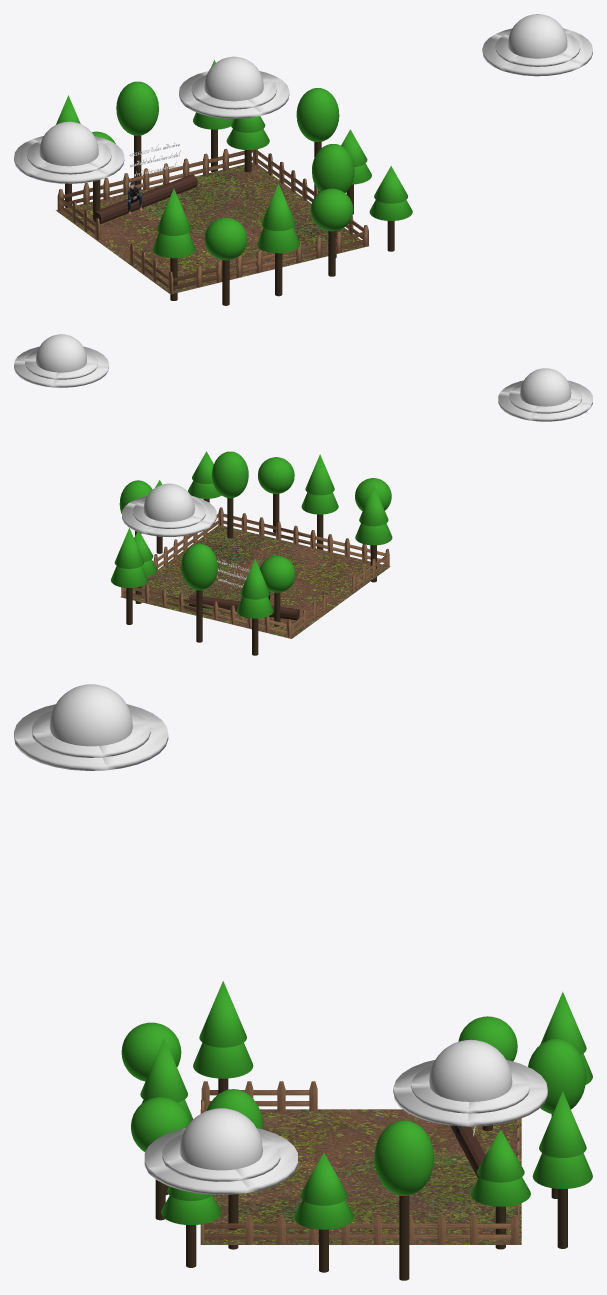
File: SceneFinal.glb
3 views of the same model, one above another, from view 1: azimuth 30°, elevation 25°; view 2: azimuth 150°, elevation 25°; view 3: azimuth 270°, elevation 25° (orthographic). The views are drawn at different scales.
Visible parts, largest first — view 1: Plane, Cube.040, Sphere.001, Sphere.002, Sphere.003, Tree2, Tree1.005, Tree1.006, Tree2.002, Tree2.001, Tree2.004, Tree2.005 (+7 smaller); view 2: Plane, Cube.040, Sphere.001, Sphere.003, Sphere.002, Tree2, Tree2.005, Tree1.001, Tree1.003, Tree1.005, Tree1.006, Tree2.004 (+6 smaller); view 3: Plane, Sphere.002, Sphere.003, Sphere.001, Cube.040, Tree2.002, Tree1.003, Tree1.006, Tree1, Tree1.004, Tree2, Tree2.004 (+7 smaller).
Part boxes in pixels (box(x1,y1,x2,y2)): Plane: box(56, 162, 368, 294); Cube.040: box(57, 148, 368, 293); Sphere.001: box(482, 14, 592, 76); Sphere.002: box(179, 56, 289, 118); Sphere.003: box(14, 121, 124, 183); Tree2: box(116, 81, 158, 189); Tree1.005: box(257, 183, 299, 296); Tree1.006: box(152, 188, 195, 300); Tree2.002: box(296, 88, 339, 192); Tree2.001: box(204, 217, 247, 305); Tree2.004: box(310, 188, 353, 276); Tree2.005: box(312, 144, 354, 257); Plane: box(120, 525, 390, 638); Cube.040: box(121, 507, 389, 637); Sphere.001: box(14, 334, 108, 387); Sphere.003: box(498, 368, 592, 421); Sphere.002: box(122, 483, 216, 536); Tree2: box(181, 543, 217, 642); Tree2.005: box(212, 451, 248, 538); Tree1.001: box(236, 558, 273, 655); Tree1.003: box(111, 528, 147, 624); Tree1.005: box(301, 454, 338, 549); Tree1.006: box(355, 485, 392, 582); Tree2.004: box(258, 457, 294, 532); Plane: box(200, 1109, 521, 1244); Sphere.002: box(393, 1039, 547, 1126); Sphere.003: box(14, 684, 168, 770); Sphere.001: box(144, 1108, 297, 1194); Cube.040: box(201, 1081, 519, 1244); Tree2.002: box(374, 1120, 433, 1280); Tree1.003: box(532, 1091, 592, 1248); Tree1.006: box(193, 981, 253, 1093); Tree1: box(294, 1153, 353, 1272); Tree1.004: box(470, 1129, 530, 1249); Tree2: box(528, 1038, 586, 1198); Tree2.004: box(131, 1097, 189, 1220).
Size of the model in its own units: 61.35 by 23.97 by 36.08.
Materials: 14 (3 with a texture image).
